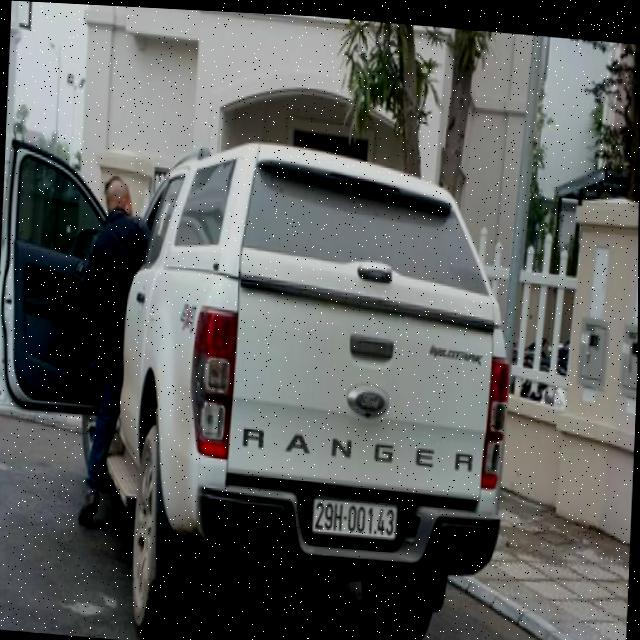car: (0, 105, 529, 640)
plate: (305, 491, 404, 545)
